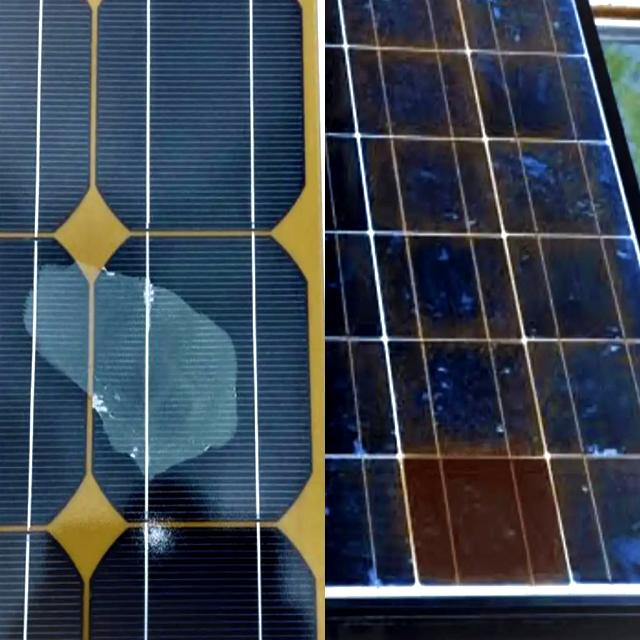shadow: (18, 230, 260, 486), (382, 42, 582, 322), (391, 375, 573, 640), (116, 512, 182, 584)
